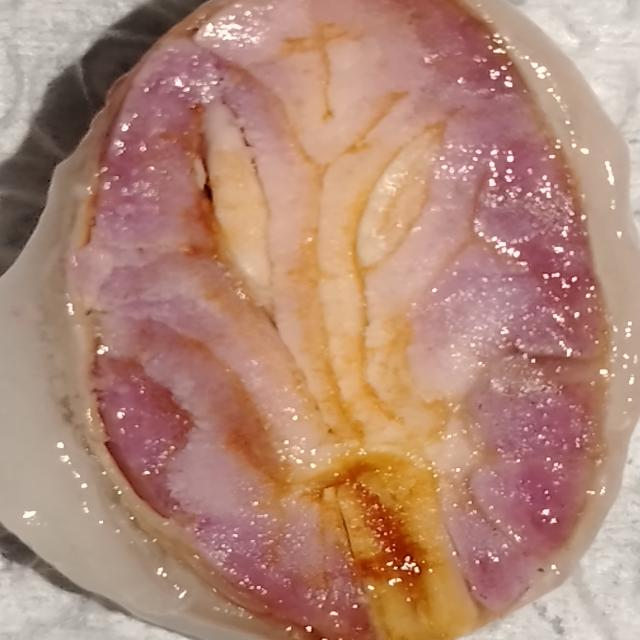Trinitario: (18, 0, 620, 640)
